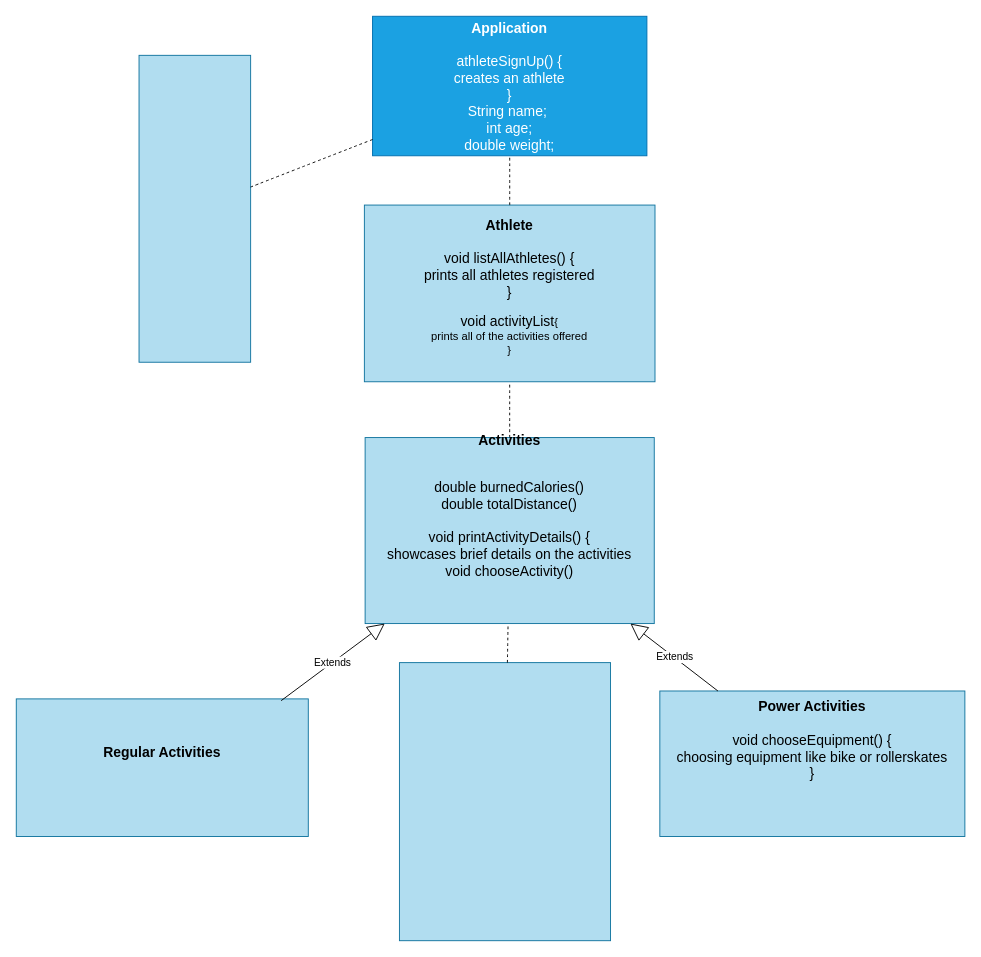
This 981x957 diagram has some shape labels left out. The centre of each missing label's shape, as x and y in pixels:
"Enum genders()" belongs at (x=194, y=208).
"Enum transportationMode() WALKING RUNNING BIKING ETC" belongs at (x=505, y=801).
